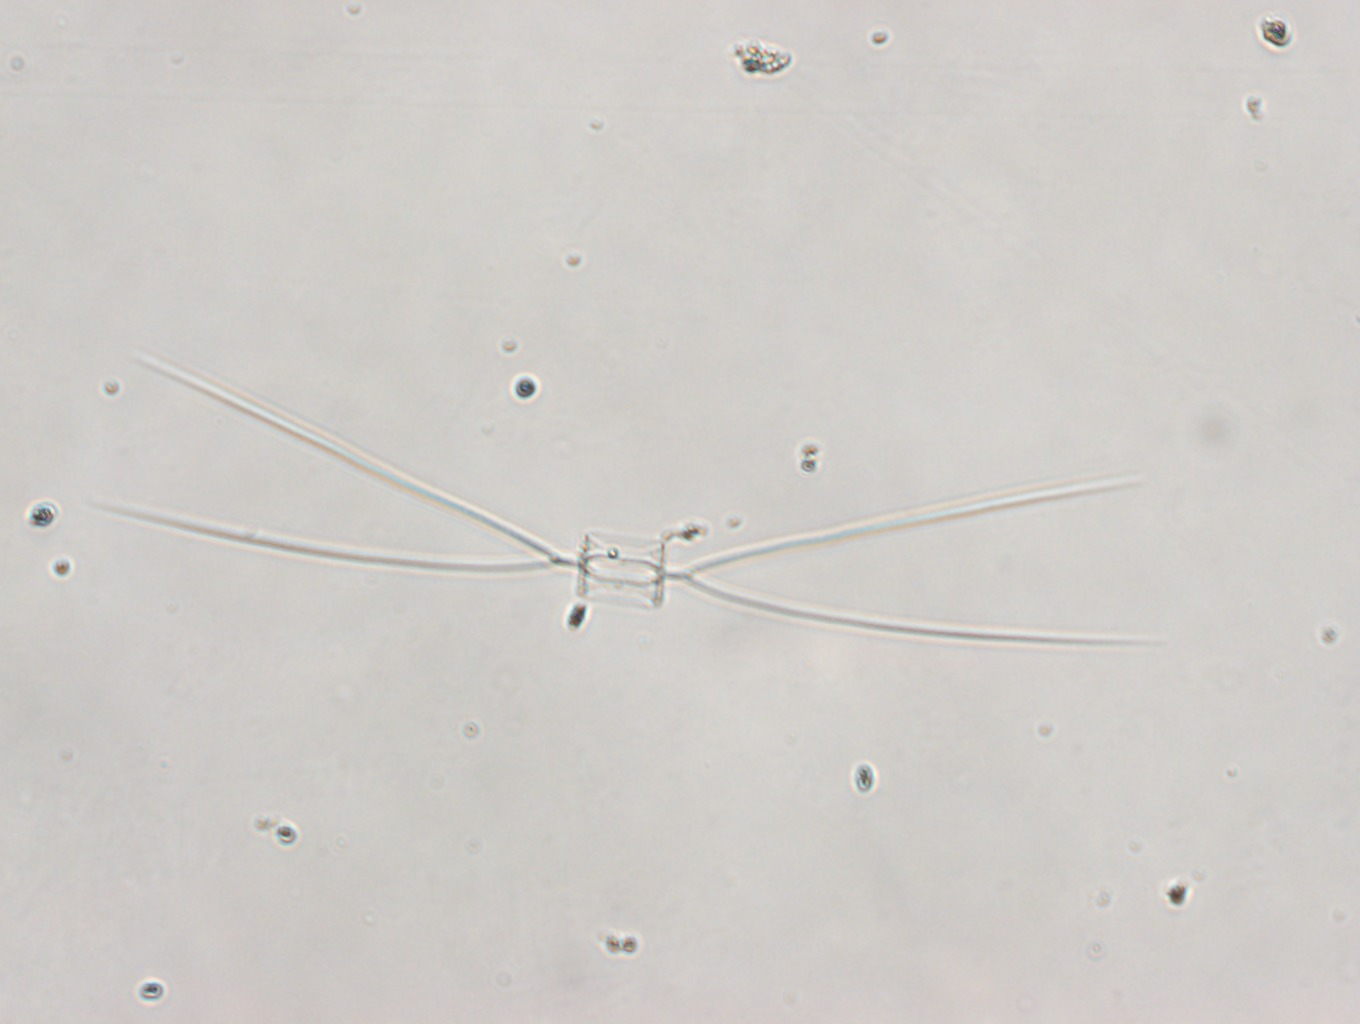chaetoceros: (90, 350, 1174, 645)
